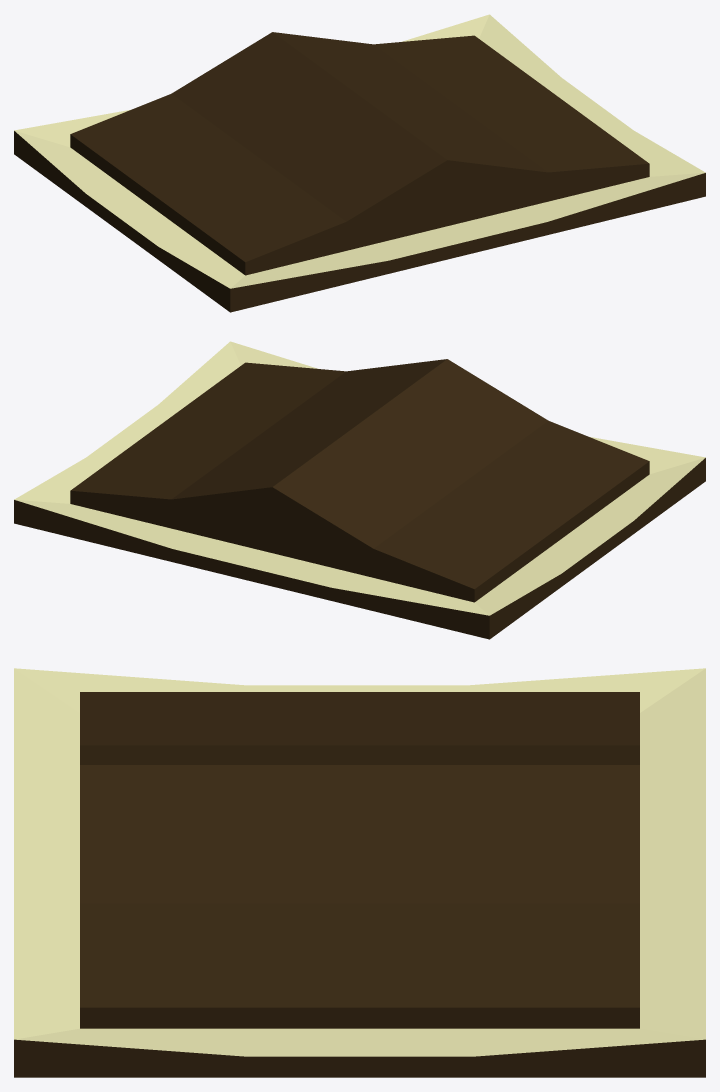
File: rooftrim.fbx
The picture shows the model from 3 angles, top to bottom: view 1: azimuth 30°, elevation 25°; view 2: azimuth 150°, elevation 25°; view 3: azimuth 270°, elevation 25°; orthographic projection. The views are drawn at different scales.
Visible parts, largest first — view 1: Cube; view 2: Cube; view 3: Cube.
Part boxes in pixels (bbox=[...]): Cube: bbox=[14, 14, 705, 312]; Cube: bbox=[14, 341, 705, 639]; Cube: bbox=[14, 668, 705, 1077].
Size of the model in its own units: 941 by 150 by 741.
